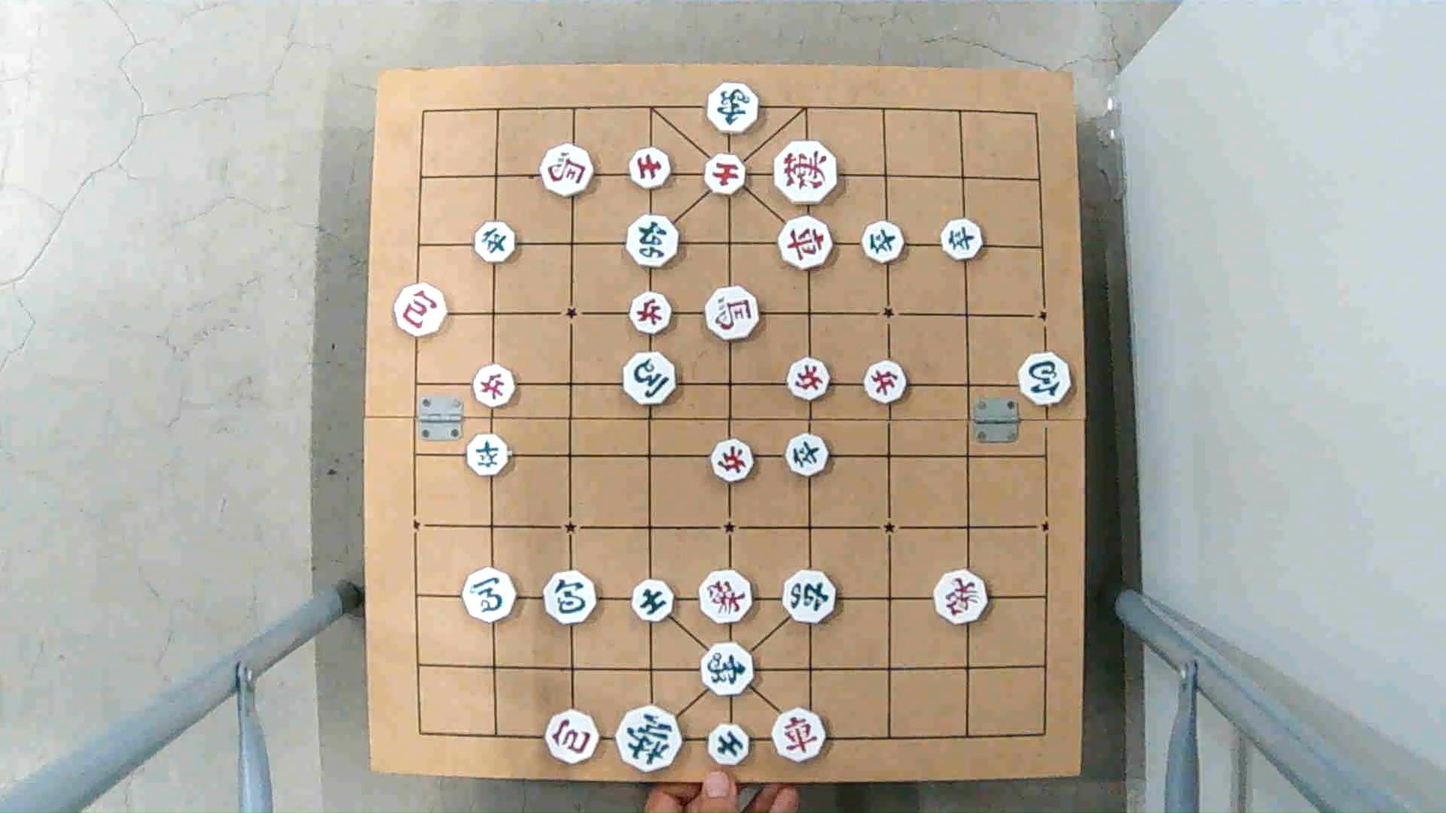cha_green: (782, 572, 839, 622), (630, 218, 678, 263)
cha_red: (770, 711, 826, 760), (779, 220, 832, 269)
jol_green: (784, 435, 832, 477), (465, 435, 513, 474), (941, 220, 986, 258), (474, 222, 519, 260), (862, 224, 907, 261)
jol_red: (470, 364, 517, 406), (710, 442, 758, 481), (787, 358, 832, 398), (862, 363, 908, 402), (629, 294, 673, 333)
ma_green: (462, 571, 518, 620), (622, 352, 677, 400)
ma_red: (538, 146, 595, 195), (706, 287, 758, 337)
po_green: (541, 572, 597, 623), (1019, 354, 1069, 403)
po_red: (545, 712, 604, 762), (395, 286, 447, 335)
sa_green: (629, 580, 677, 619), (704, 725, 753, 763)
sa_red: (702, 154, 749, 194), (629, 148, 670, 190)
sang_green: (700, 646, 756, 695), (706, 81, 757, 132)
sang_red: (932, 572, 988, 622), (698, 573, 754, 622)
wang_green: (615, 711, 684, 769)
wang_red: (775, 144, 837, 200)
